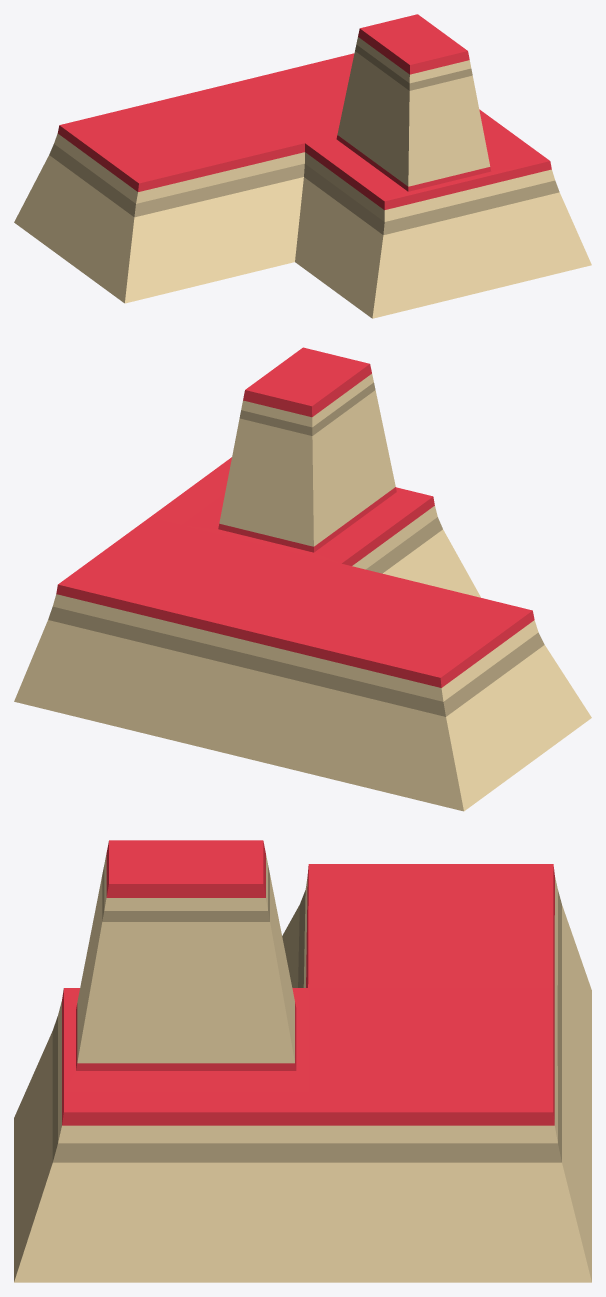
File: House_2.fbx
3 renders of one model, top to bottom at view 1: azimuth 30°, elevation 25°; view 2: azimuth 150°, elevation 25°; view 3: azimuth 270°, elevation 25°, orthographic. The views are drawn at different scales.
Visible parts, largest first — view 1: House_2; view 2: House_2; view 3: House_2.
Boxes of the visible parts, x1=… form: House_2: x1=14, y1=14, x2=591, y2=318; House_2: x1=14, y1=347, x2=591, y2=811; House_2: x1=14, y1=840, x2=591, y2=1282.
Size of the model in its own units: 352 by 185 by 295.
